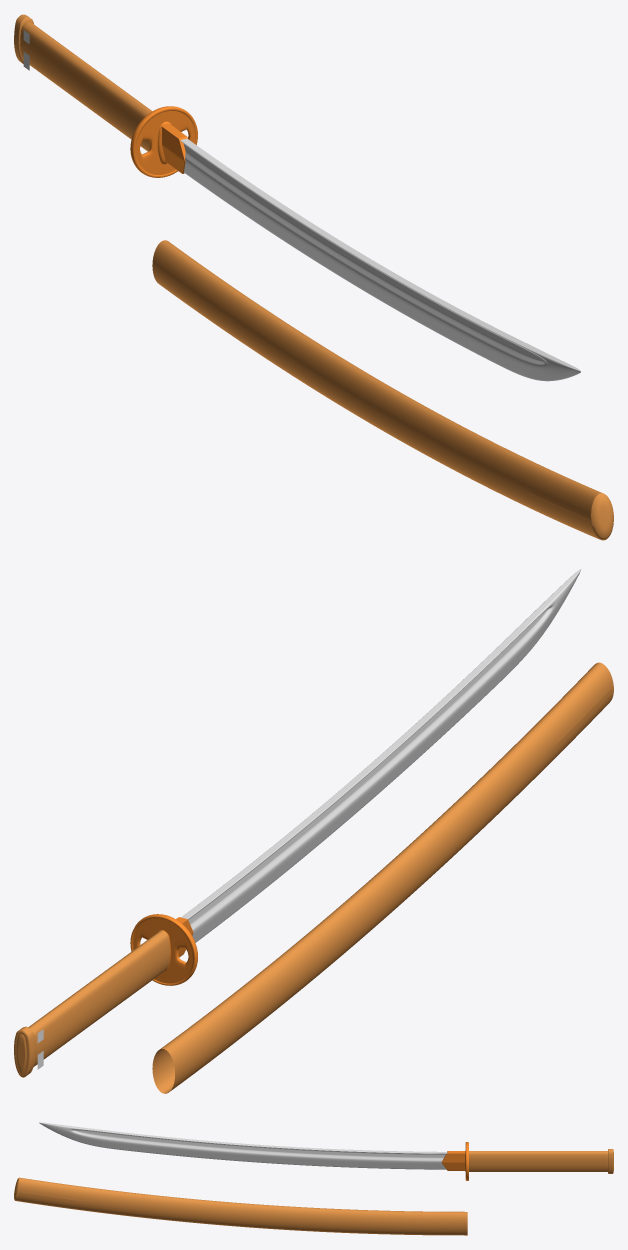
Rendered from katana3.fbx.
The picture shows the model from 3 angles, top to bottom: view 1: azimuth 30°, elevation 25°; view 2: azimuth 150°, elevation 25°; view 3: azimuth 270°, elevation 25°; orthographic projection. The views are drawn at different scales.
Visible parts, largest first — view 1: Cylinder.002, Cube, Cylinder, Cylinder.001, Cube.001; view 2: Cylinder.002, Cube, Cylinder, Cylinder.001; view 3: Cylinder.002, Cube, Cylinder, Cube.001.
Part boxes in pixels (left/top/right/bottom): Cylinder.002: left=152, top=240, right=613, bottom=540; Cube: left=180, top=138, right=581, bottom=381; Cylinder: left=14, top=14, right=152, bottom=151; Cylinder.001: left=130, top=106, right=197, bottom=177; Cube.001: left=161, top=124, right=187, bottom=173; Cylinder.002: left=152, top=662, right=613, bottom=1093; Cube: left=181, top=569, right=581, bottom=949; Cylinder: left=14, top=930, right=169, bottom=1077; Cylinder.001: left=130, top=914, right=197, bottom=985; Cylinder.002: left=14, top=1177, right=467, bottom=1235; Cube: left=39, top=1122, right=447, bottom=1169; Cylinder: left=469, top=1149, right=613, bottom=1173; Cube.001: left=441, top=1151, right=465, bottom=1170.
Size of the model in its own units: 8.04 by 25.48 by 123.
